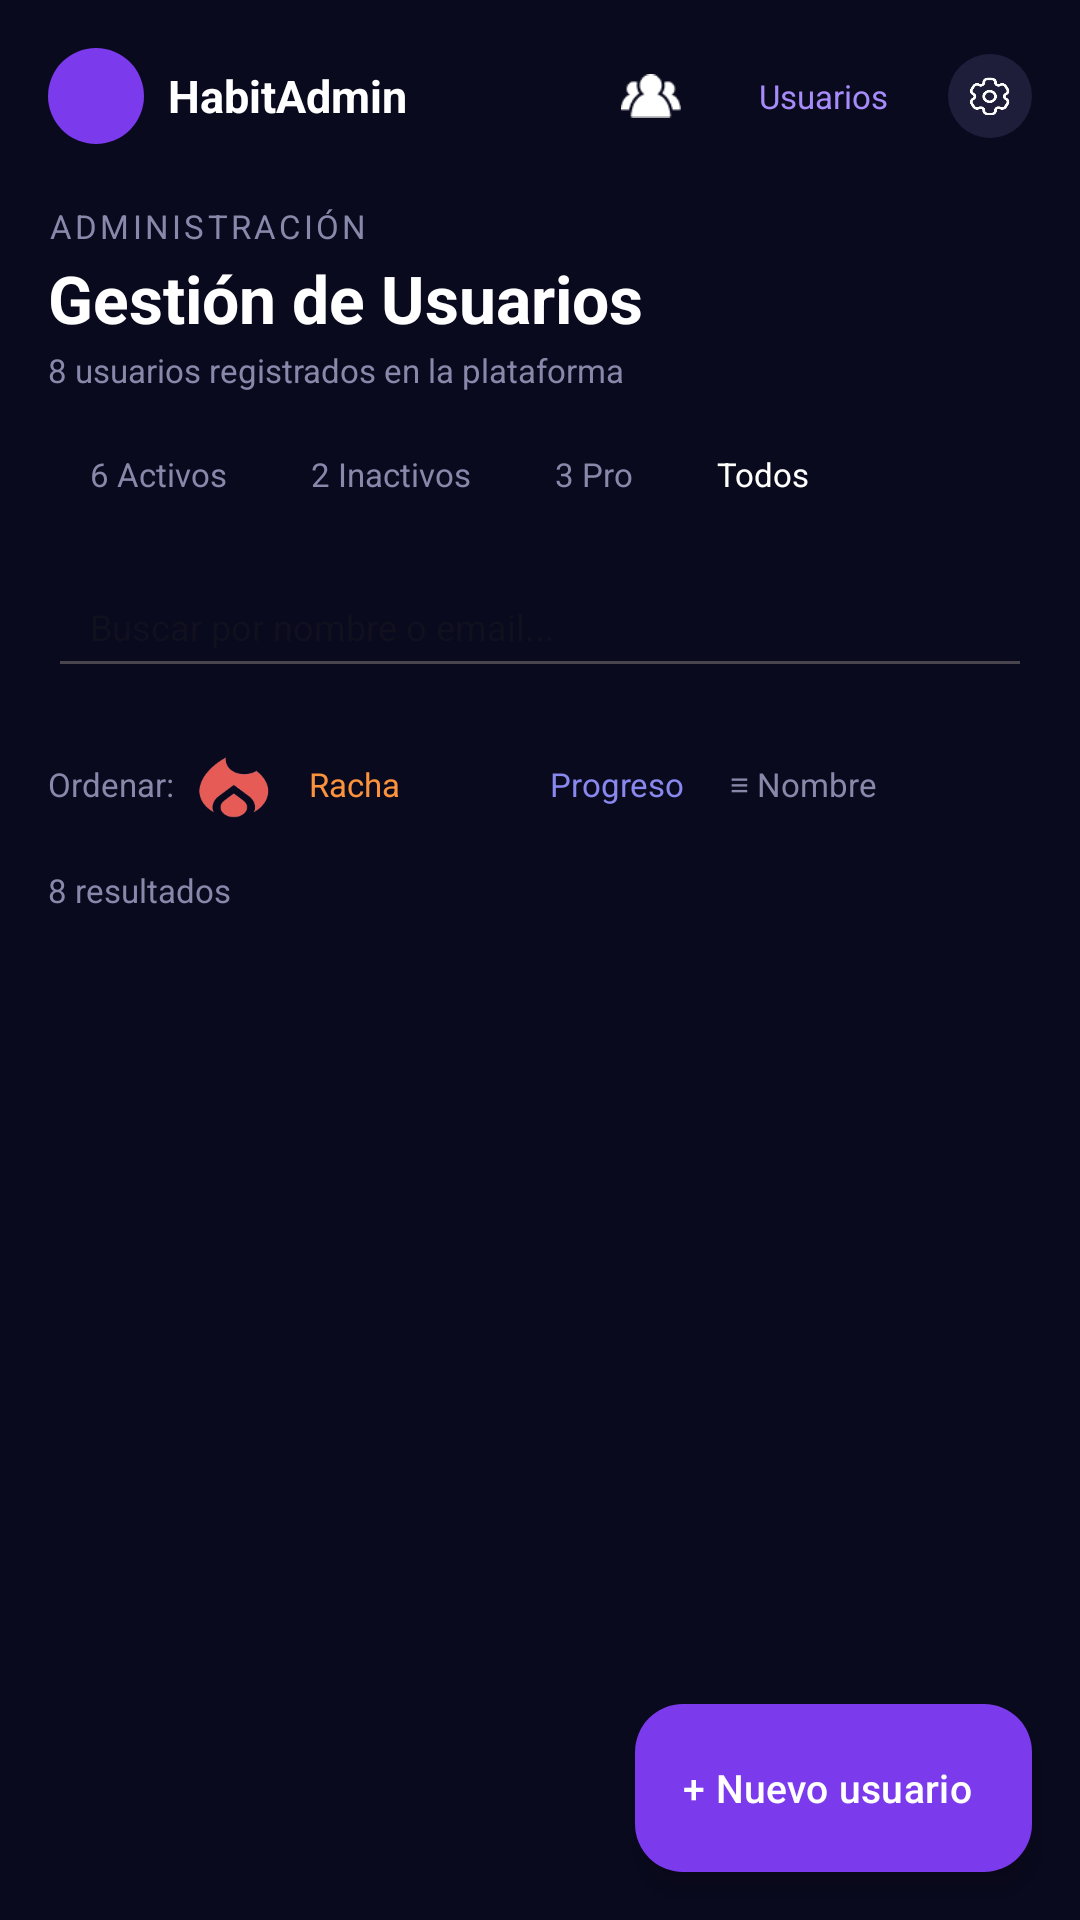

Named icons in this screenshot (1080x1920) and their bounding boxes, box=[x1, y1, x2, y2]:
tuerca: box=[948, 54, 1031, 138]
